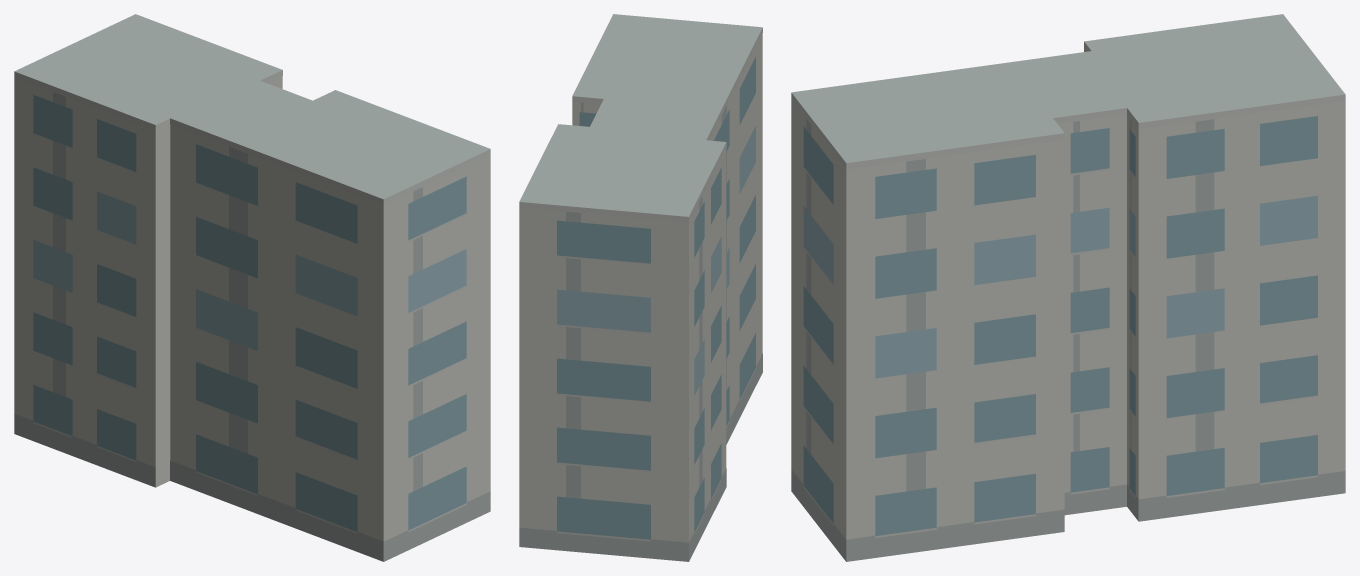
Rendered from survey-upis-32612262.glb.
3 renders of one model, left to right at view 1: azimuth 30°, elevation 25°; view 2: azimuth 150°, elevation 25°; view 3: azimuth 270°, elevation 25°, orthographic. The views are drawn at different scales.
Parts seen in each view (by area): view 1: survey-upis-32612262.tmp; view 2: survey-upis-32612262.tmp; view 3: survey-upis-32612262.tmp.
Part boxes in pixels (box(x1,y1,x2,y2)): survey-upis-32612262.tmp: box(14, 14, 490, 561); survey-upis-32612262.tmp: box(519, 14, 762, 561); survey-upis-32612262.tmp: box(791, 14, 1345, 561).
Size of the model in its own units: 11.8 by 14.7 by 18.53.
